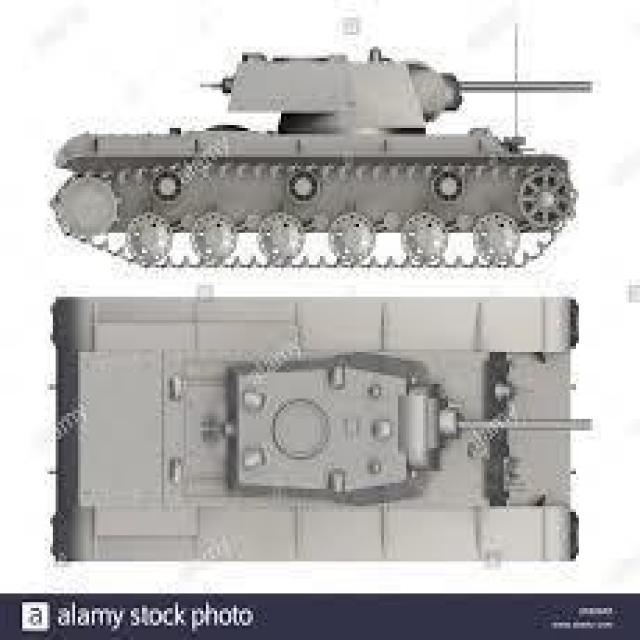Tanks: (39, 288, 607, 564), (45, 39, 610, 275)
